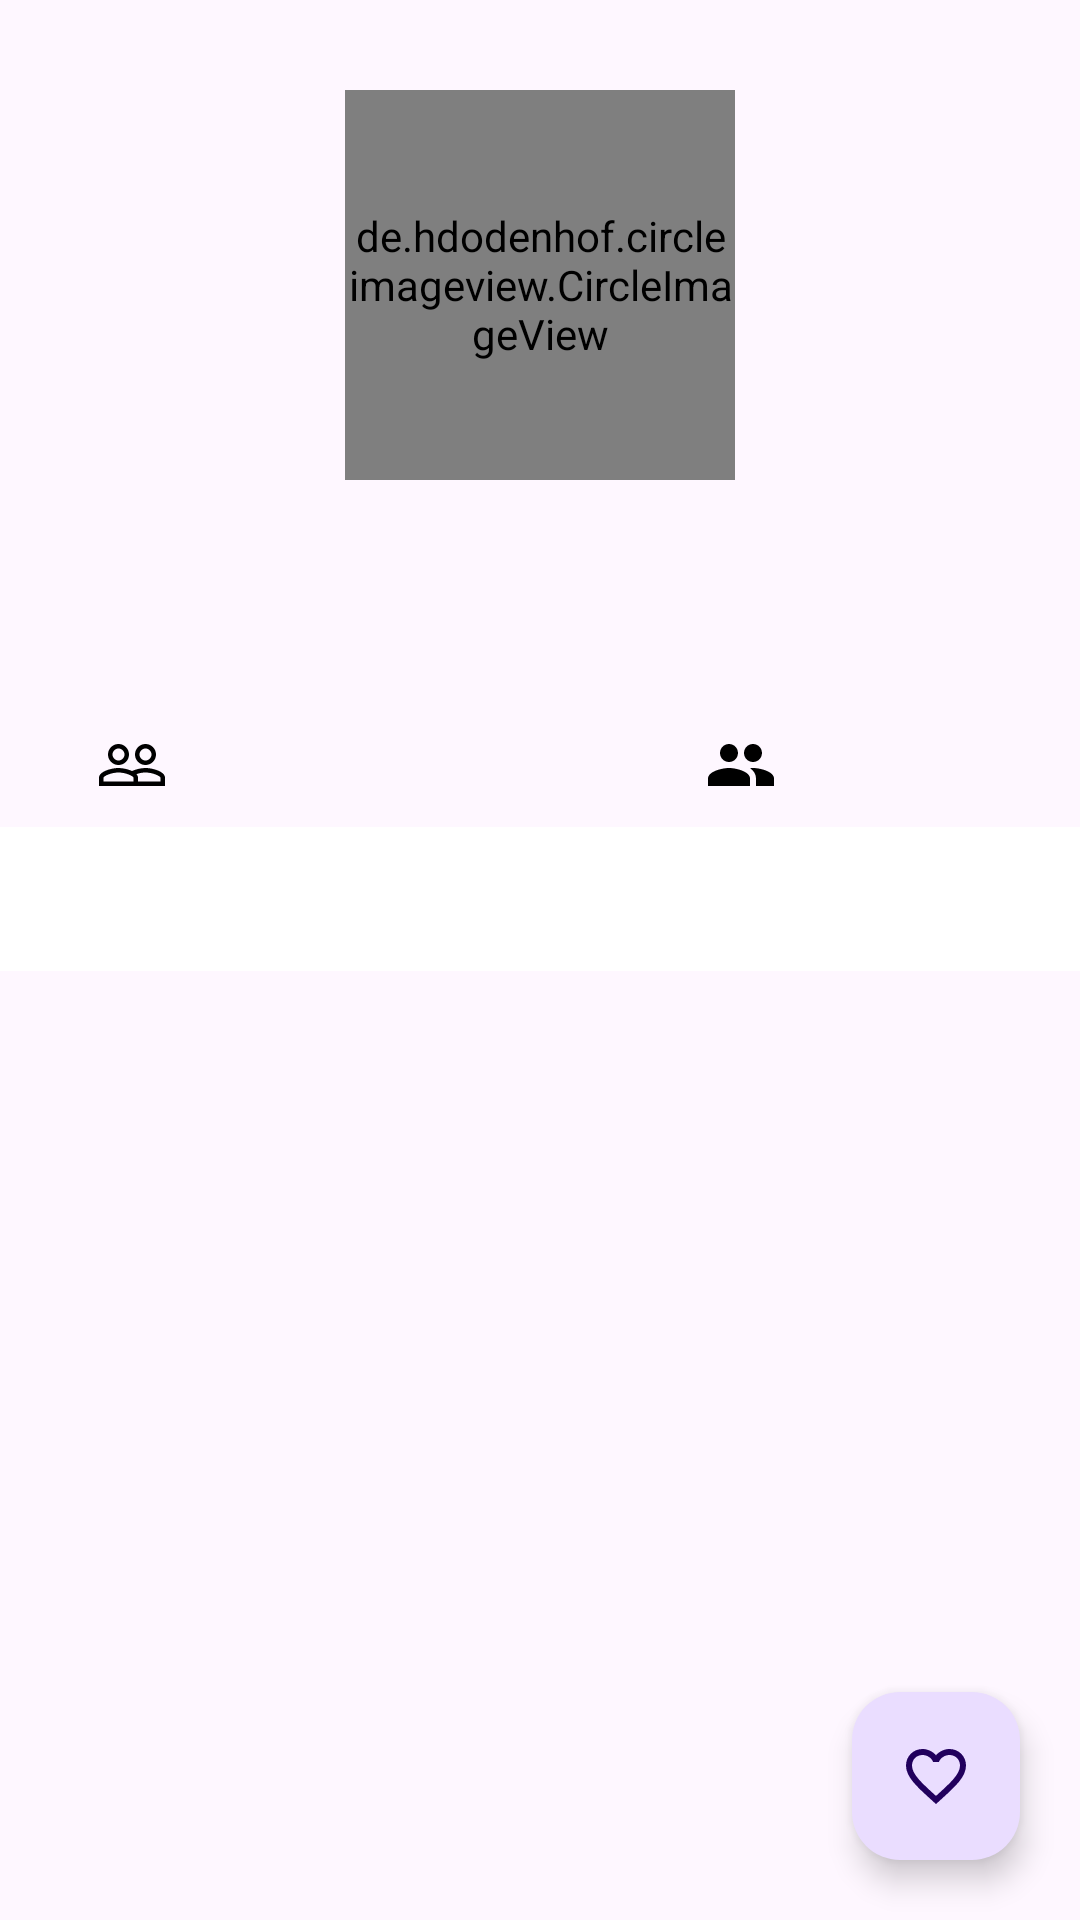

Named icons in this screenshot (1080×1920) and their bounding boxes, bbox(x1, y1, x2, y2):
people: bbox(99, 744, 165, 786), bbox(708, 744, 774, 786)
